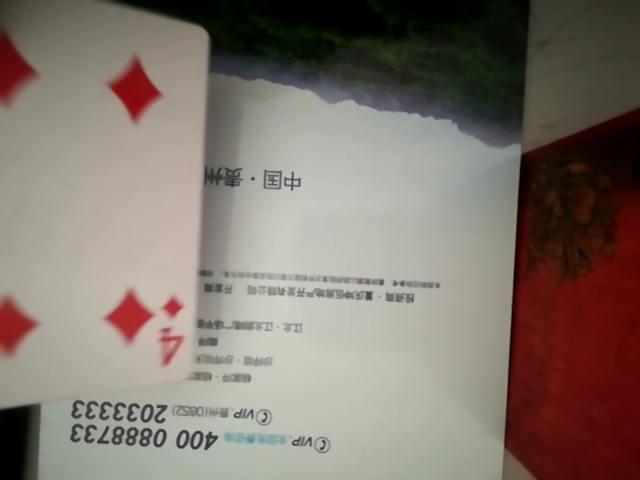fk 4: (0, 2, 217, 415)
